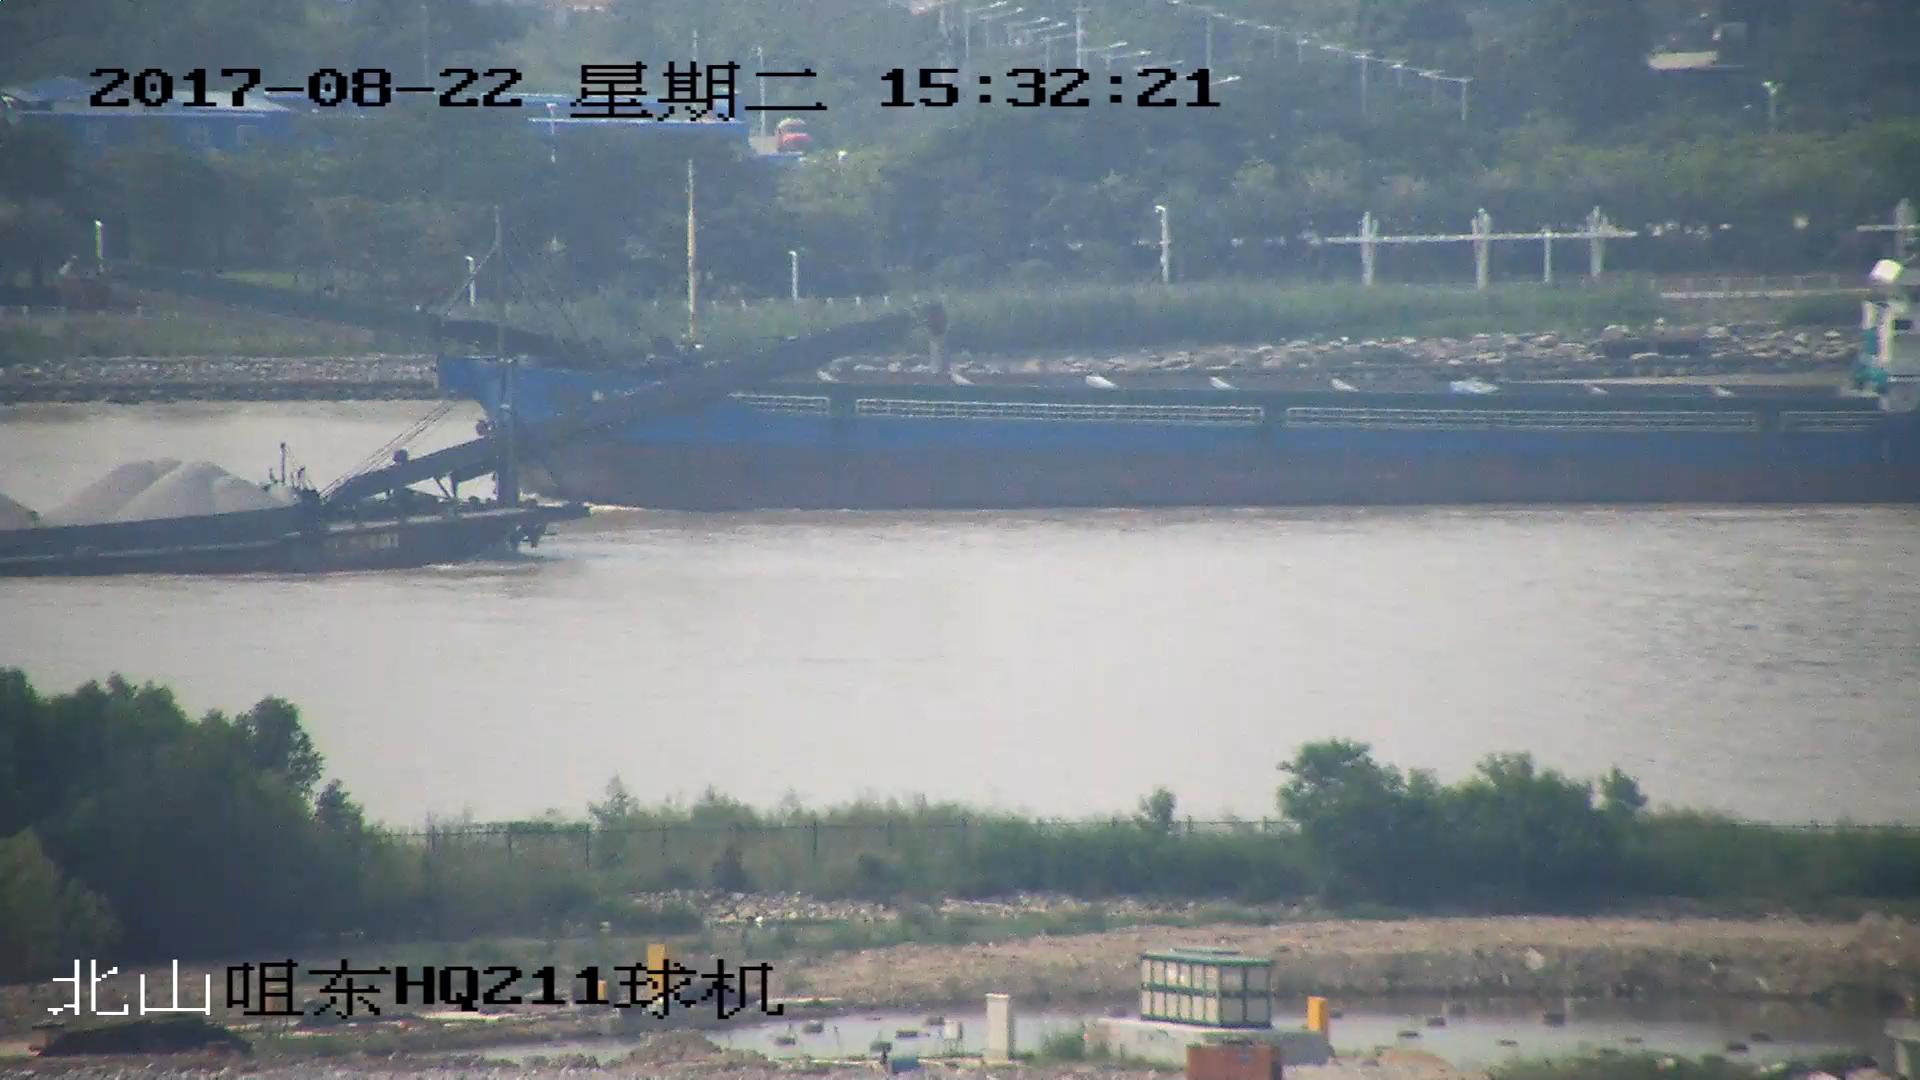bulk cargo carrier: (78, 254, 1920, 511)
ore carrier: (1, 314, 936, 582)
